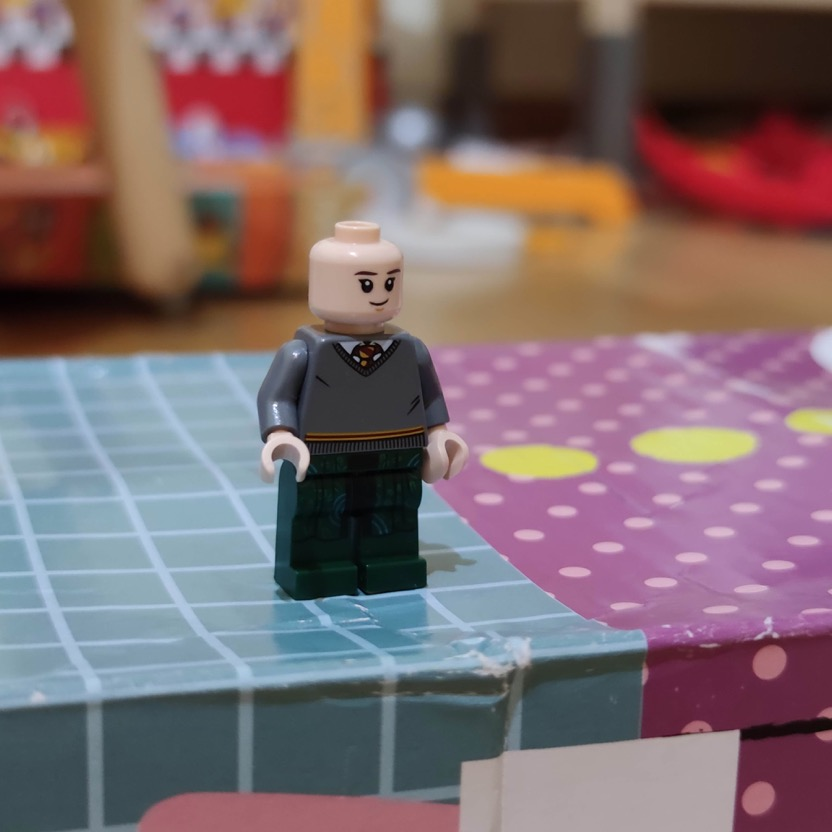lego: (255, 219, 469, 602)
